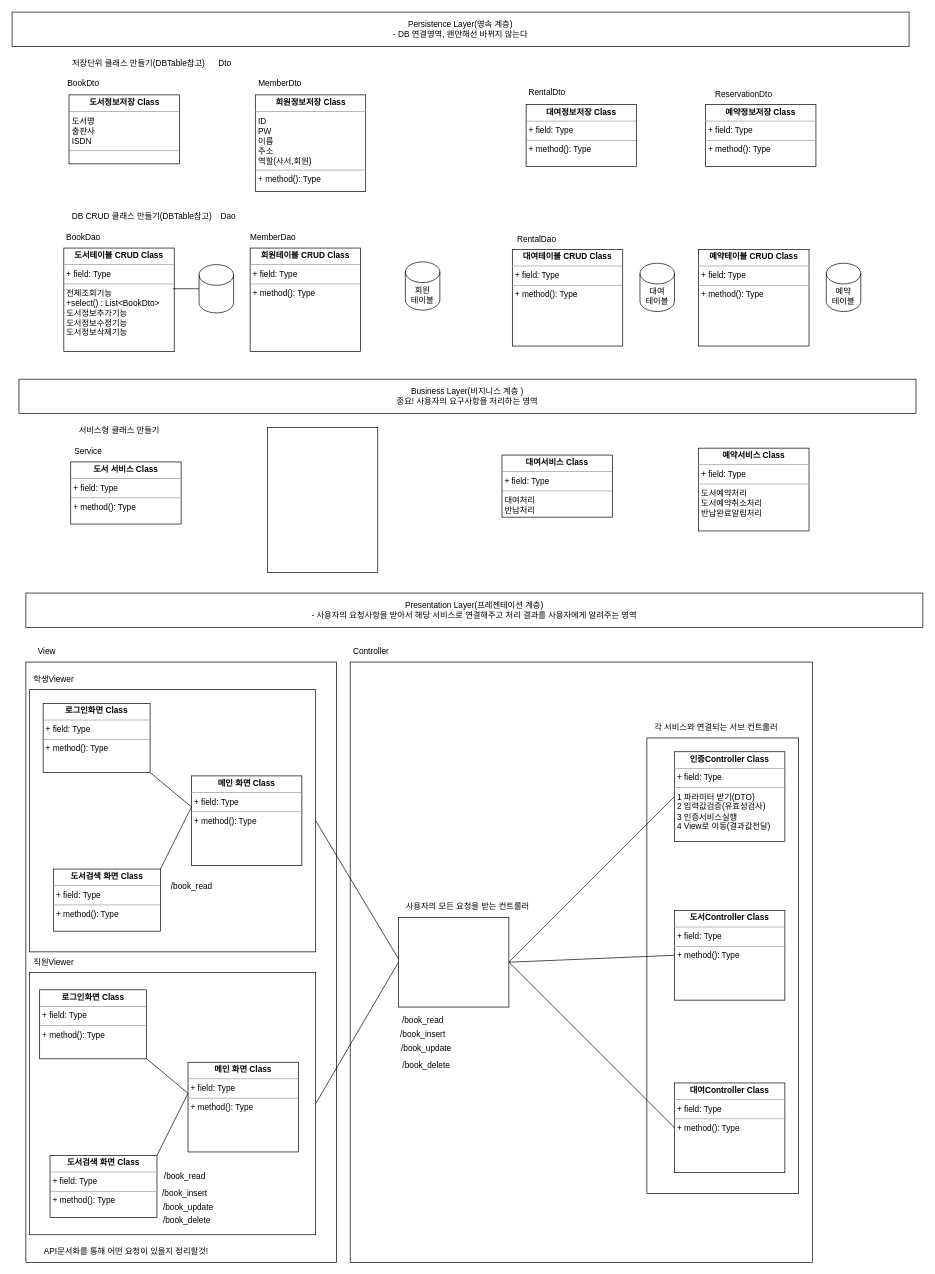
Some shapes in this 935 by 1274 pixel diagram are drawn without their labels. The centre of each missing label's shape, as x and y in pixels:
"FrontController Class + field: Type + method(): Type" belongs at (453,962).
"도서 테이블" belongs at (216,288).
"인증서비스 Class + field: Type 회원가입 회원조회 회원수정 회원탈퇴 회원 로그인 사서 로그인 로그아웃 권한처리" belongs at (322,499).
